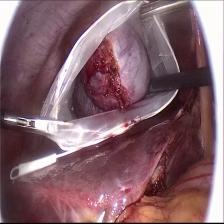Grasper: (3, 113, 77, 149), (138, 0, 200, 23)
Specimen Bag: (37, 0, 184, 156)
